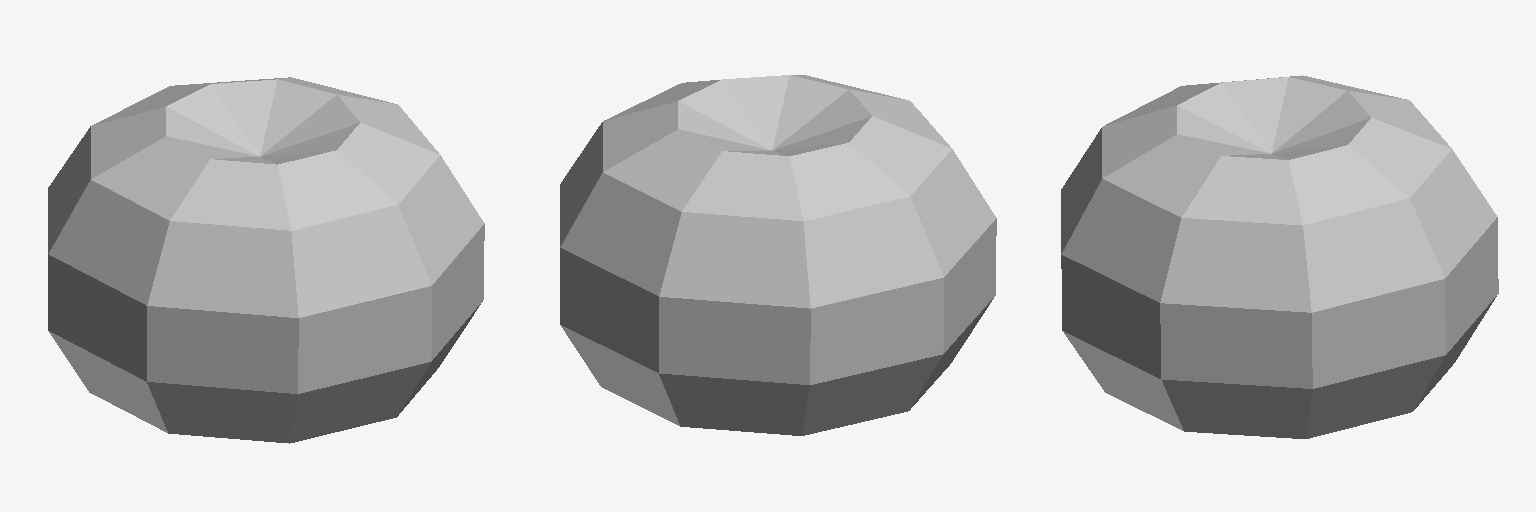
Rendered from fruit.obj.
3 renders of one model, left to right at view 1: azimuth 30°, elevation 25°; view 2: azimuth 150°, elevation 25°; view 3: azimuth 270°, elevation 25°, orthographic.
Parts seen in each view (by area): view 1: Sphere.008_Sphere.017; view 2: Sphere.008_Sphere.017; view 3: Sphere.008_Sphere.017.
Boxes of the visible parts, x1=… form: Sphere.008_Sphere.017: x1=48, y1=77, x2=484, y2=443; Sphere.008_Sphere.017: x1=560, y1=75, x2=996, y2=435; Sphere.008_Sphere.017: x1=1061, y1=75, x2=1498, y2=438.
Bounding box in the file's own units: 3.02 × 2.09 × 2.99.